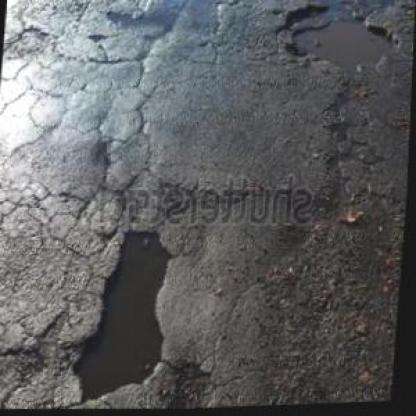pothole: (75, 224, 183, 406), (282, 0, 408, 79), (171, 358, 223, 409), (4, 22, 51, 62)
